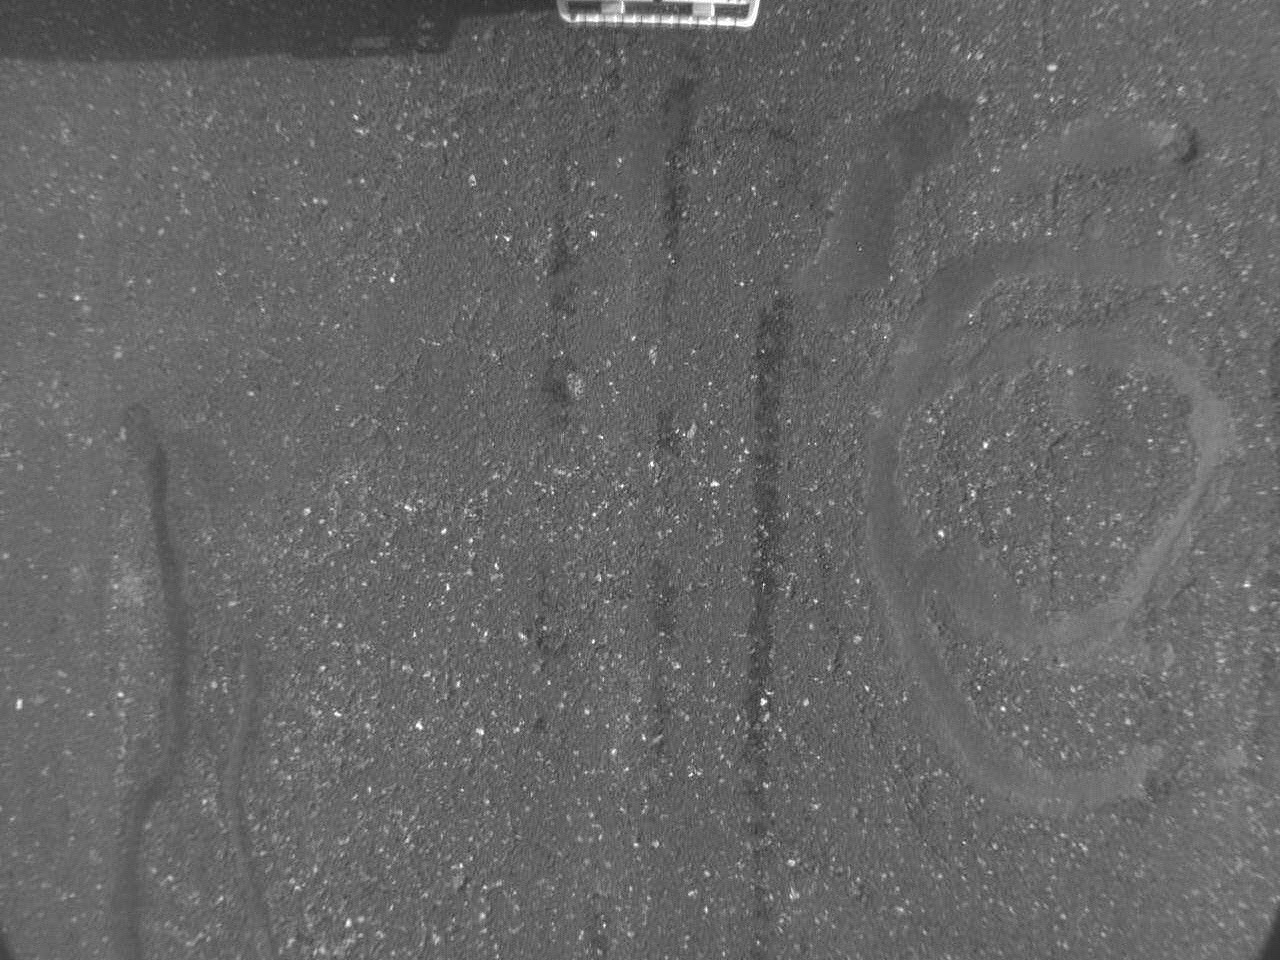sealed: (790, 80, 1246, 818), (100, 455, 206, 953)
